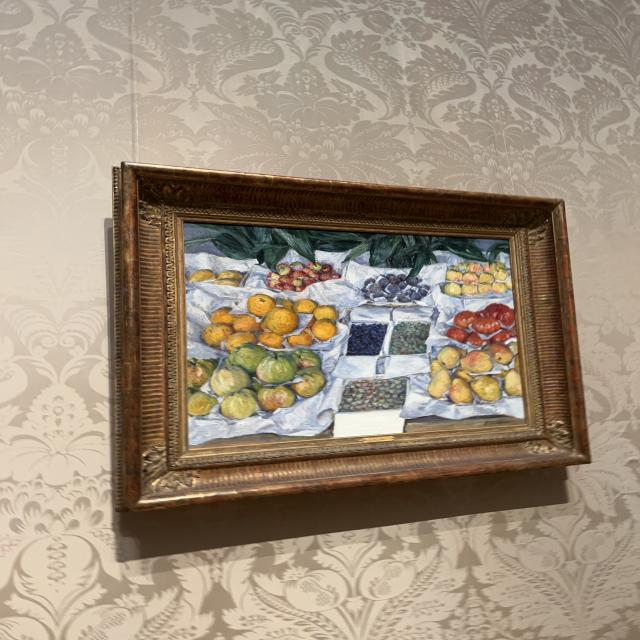fruits: (188, 226, 521, 446)
